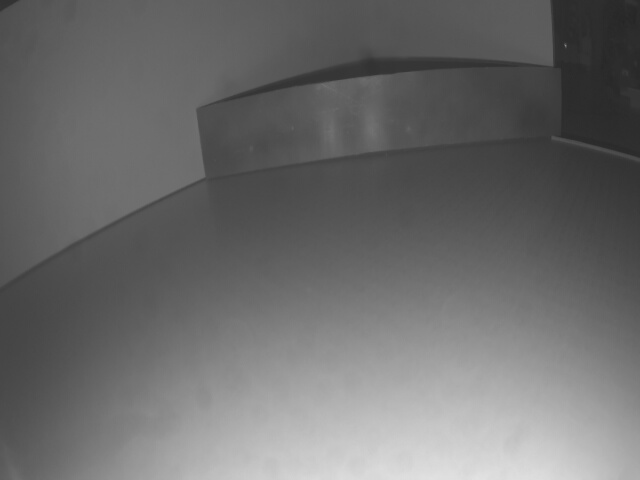Green: (195, 67, 561, 182)
